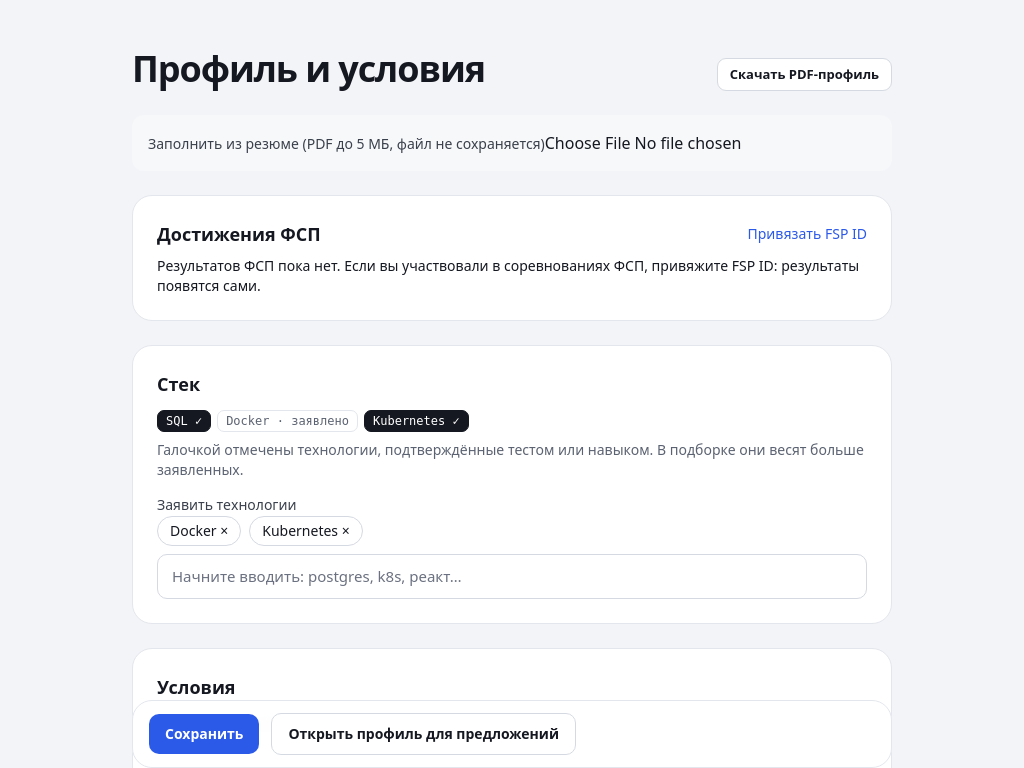
ProfileDetailsPage › shows a save error instead of failing silently
What coordinates should you click on to do the following:
click the button "Сохранить"
I would click on:
 (204, 734)
Its box is [149,714,259,754].
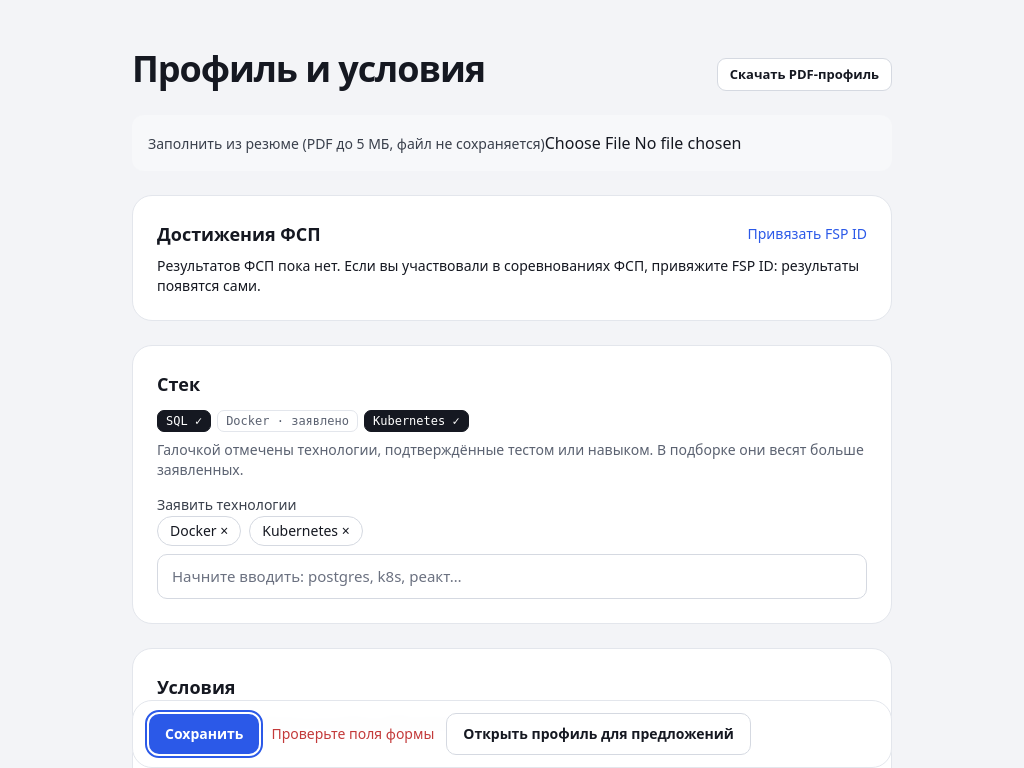
Check: the message reads "Проверьте поля формы", box [271,724,434,743]
